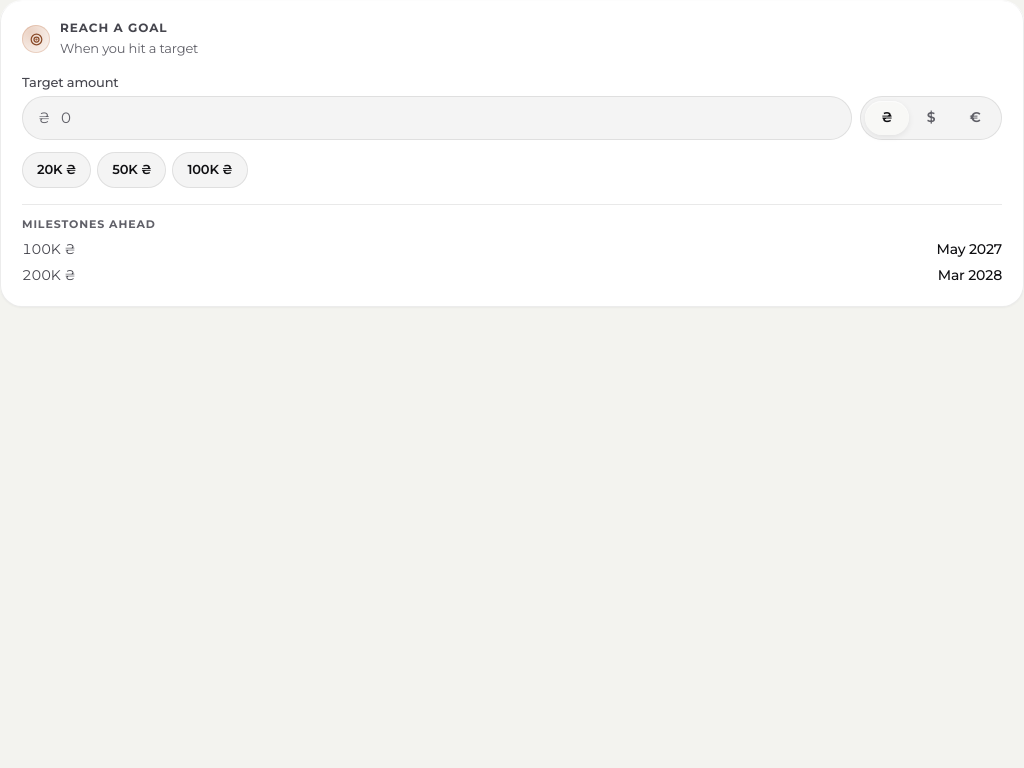
Scenario: GoalCard › waits for a target, then says when it is reached
The width and height of the screenshot is (1024, 768).
Check: the text "Reached around" is not shown
In the field labelled "Target amount": (437, 118) [22,96,852,140], type "100000"
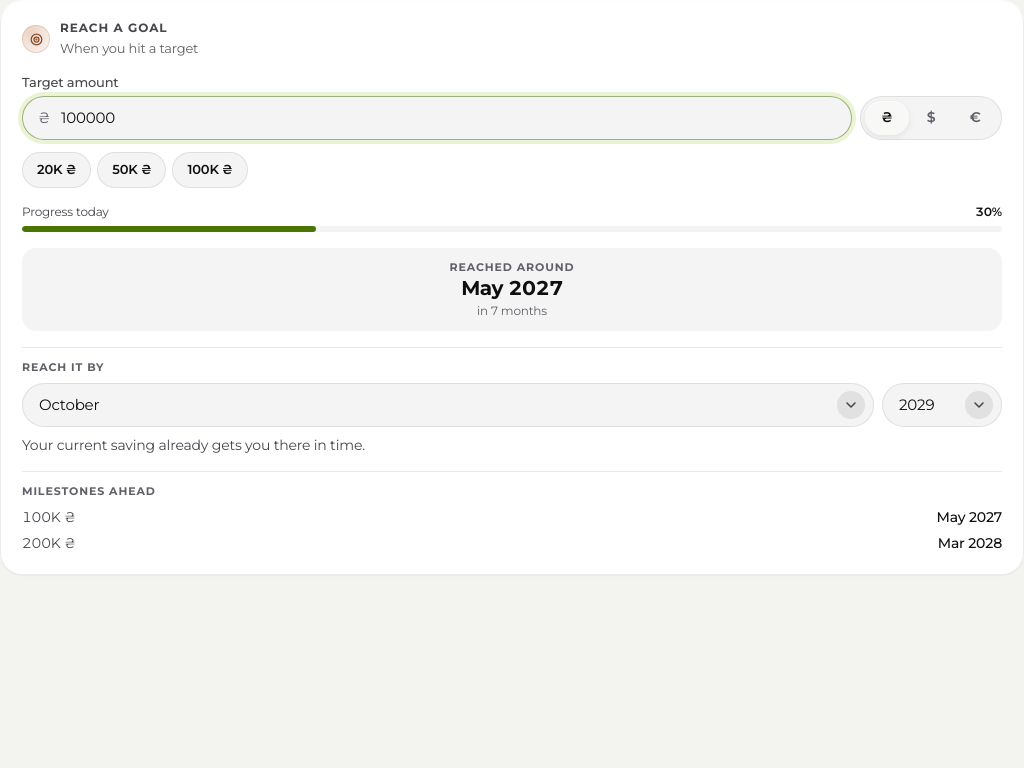
Check: the text "Reached around" is shown, box [450,260,574,274]
Check: the text "in 7 months" is shown, box [477,303,547,318]
Check: the text "30%" is shown, box [975,204,1002,220]
